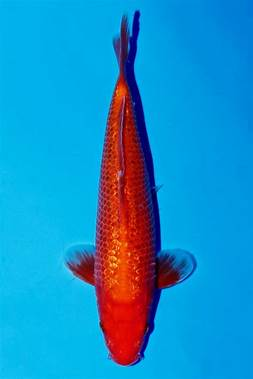red: (63, 11, 195, 366)
